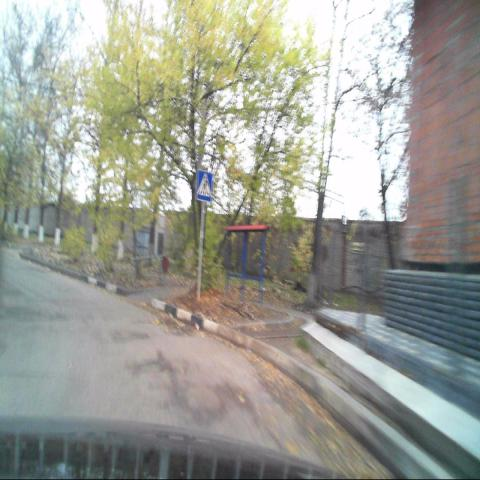5_19_1: (196, 170, 213, 202)
